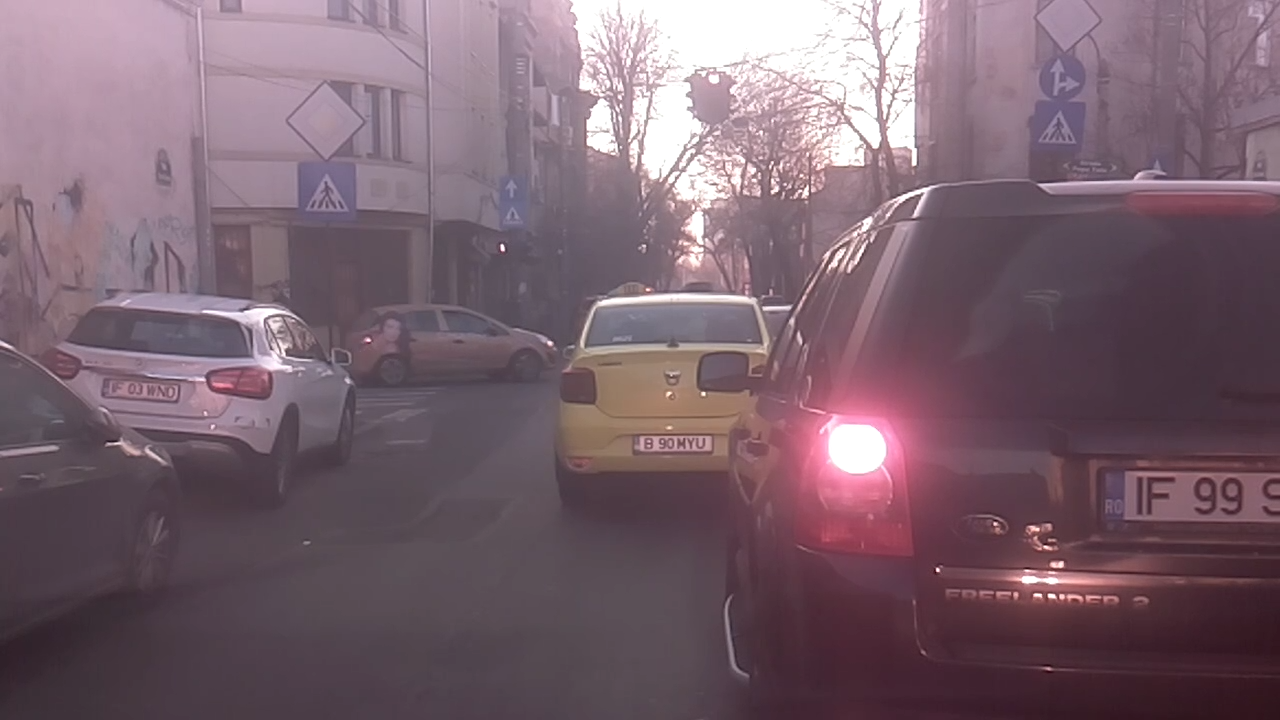license-plate: (627, 430, 719, 456), (98, 375, 182, 403)
